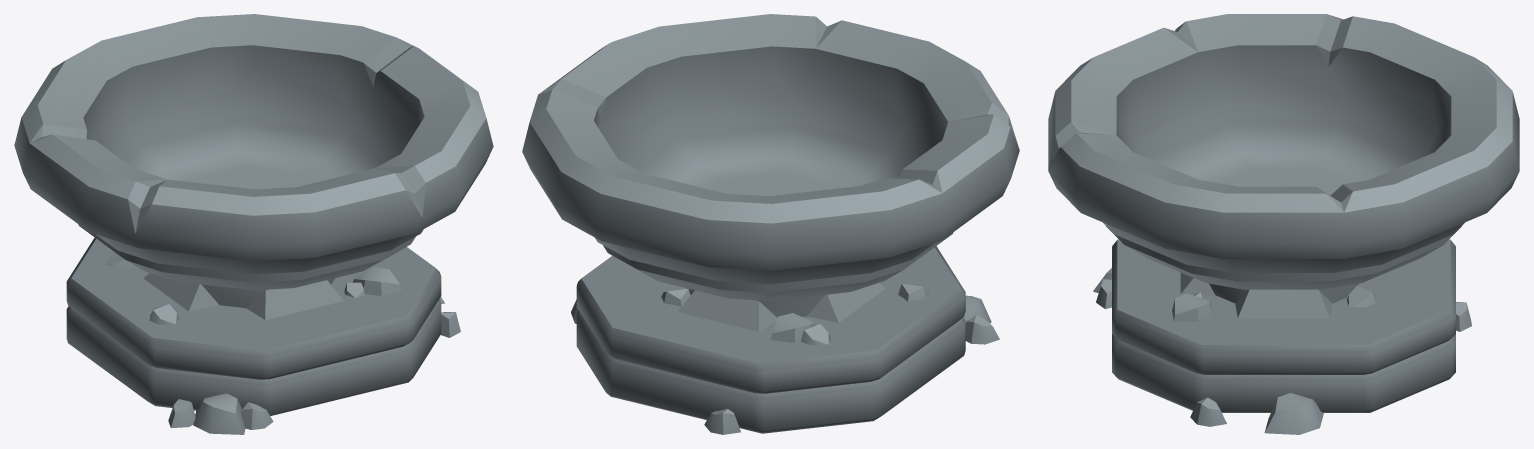
File: Cleric_Font.obj
The picture shows the model from 3 angles, left to right: view 1: azimuth 30°, elevation 25°; view 2: azimuth 150°, elevation 25°; view 3: azimuth 270°, elevation 25°; orthographic projection. The views are drawn at different scales.
Visible parts, largest first — view 1: Cleric_Font; view 2: Cleric_Font; view 3: Cleric_Font.
Part boxes in pixels (x1,y1,x2,y2): Cleric_Font: [14, 14, 493, 434]; Cleric_Font: [522, 14, 1019, 434]; Cleric_Font: [1048, 14, 1519, 434].
Size of the model in its own units: 1.44 by 0.805 by 1.44.
1 material, 1 textured.
